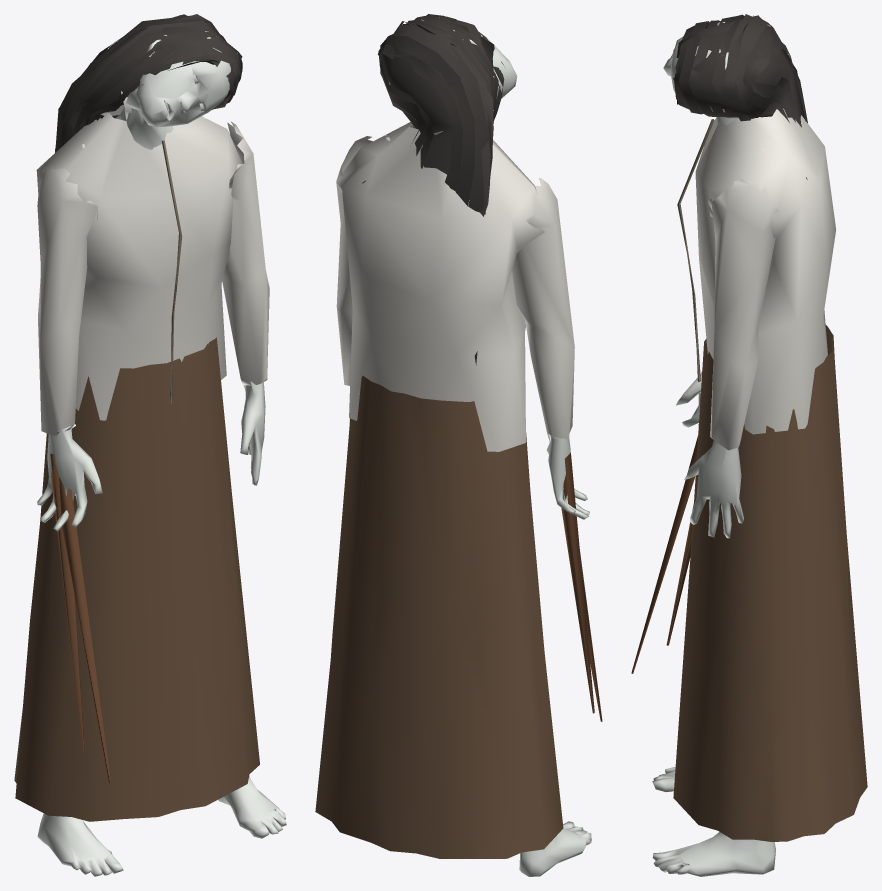
The model's file is SriAtmajaEcho.fbx.
The picture shows the model from 3 angles, left to right: view 1: azimuth 30°, elevation 25°; view 2: azimuth 150°, elevation 25°; view 3: azimuth 270°, elevation 25°; orthographic projection.
Parts seen in each view (by area): view 1: Echo_LongBatikSkirt, Echo_TailoredIvoryKebaya, Echo_KebayaSleeves, Echo_VisibleSkin, Echo_long01, Echo_Shears, Echo_ShearsSecondBlade, Echo_KebayaSeam; view 2: Echo_LongBatikSkirt, Echo_TailoredIvoryKebaya, Echo_long01, Echo_KebayaSleeves, Echo_VisibleSkin, Echo_ShearsSecondBlade, Echo_Shears; view 3: Echo_LongBatikSkirt, Echo_TailoredIvoryKebaya, Echo_KebayaSleeves, Echo_long01, Echo_VisibleSkin, Echo_Shears, Echo_KebayaSeam, Echo_ShearsSecondBlade.
Part boxes in pixels (x1=…): Echo_LongBatikSkirt: x1=14, y1=337, x2=259, y2=821; Echo_TailoredIvoryKebaya: x1=36, y1=91, x2=242, y2=420; Echo_KebayaSleeves: x1=37, y1=121, x2=269, y2=436; Echo_VisibleSkin: x1=37, y1=31, x2=286, y2=876; Echo_long01: x1=55, y1=14, x2=242, y2=152; Echo_Shears: x1=52, y1=470, x2=110, y2=783; Echo_ShearsSecondBlade: x1=50, y1=453, x2=84, y2=749; Echo_KebayaSeam: x1=161, y1=140, x2=182, y2=403; Echo_LongBatikSkirt: x1=315, y1=375, x2=563, y2=858; Echo_TailoredIvoryKebaya: x1=336, y1=86, x2=544, y2=451; Echo_long01: x1=362, y1=14, x2=504, y2=365; Echo_KebayaSleeves: x1=336, y1=136, x2=574, y2=443; Echo_VisibleSkin: x1=349, y1=19, x2=591, y2=876; Echo_ShearsSecondBlade: x1=561, y1=452, x2=594, y2=713; Echo_Shears: x1=568, y1=471, x2=602, y2=721; Echo_LongBatikSkirt: x1=673, y1=325, x2=867, y2=841; Echo_TailoredIvoryKebaya: x1=695, y1=108, x2=836, y2=434; Echo_KebayaSleeves: x1=708, y1=118, x2=778, y2=450; Echo_long01: x1=673, y1=14, x2=807, y2=179; Echo_VisibleSkin: x1=652, y1=22, x2=775, y2=876; Echo_Shears: x1=631, y1=435, x2=698, y2=673; Echo_KebayaSeam: x1=677, y1=119, x2=714, y2=381; Echo_ShearsSecondBlade: x1=666, y1=503, x2=693, y2=645.
Size of the model in its own units: 48.99 by 160 by 41.88.
